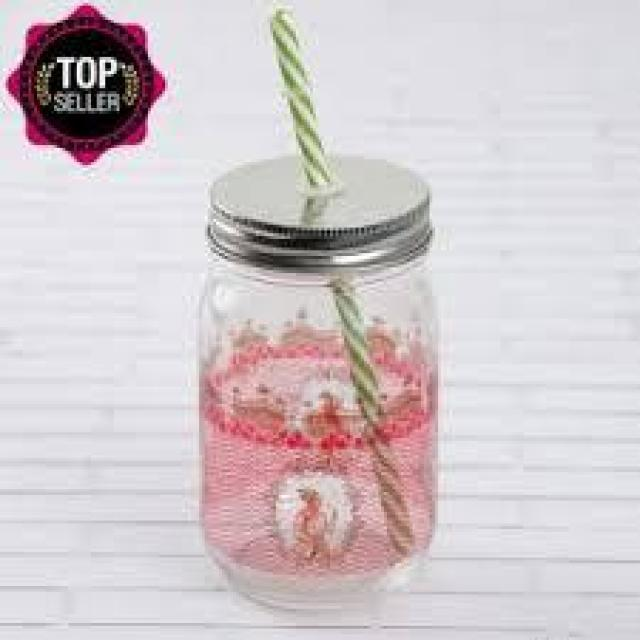Glass: (192, 154, 442, 608)
